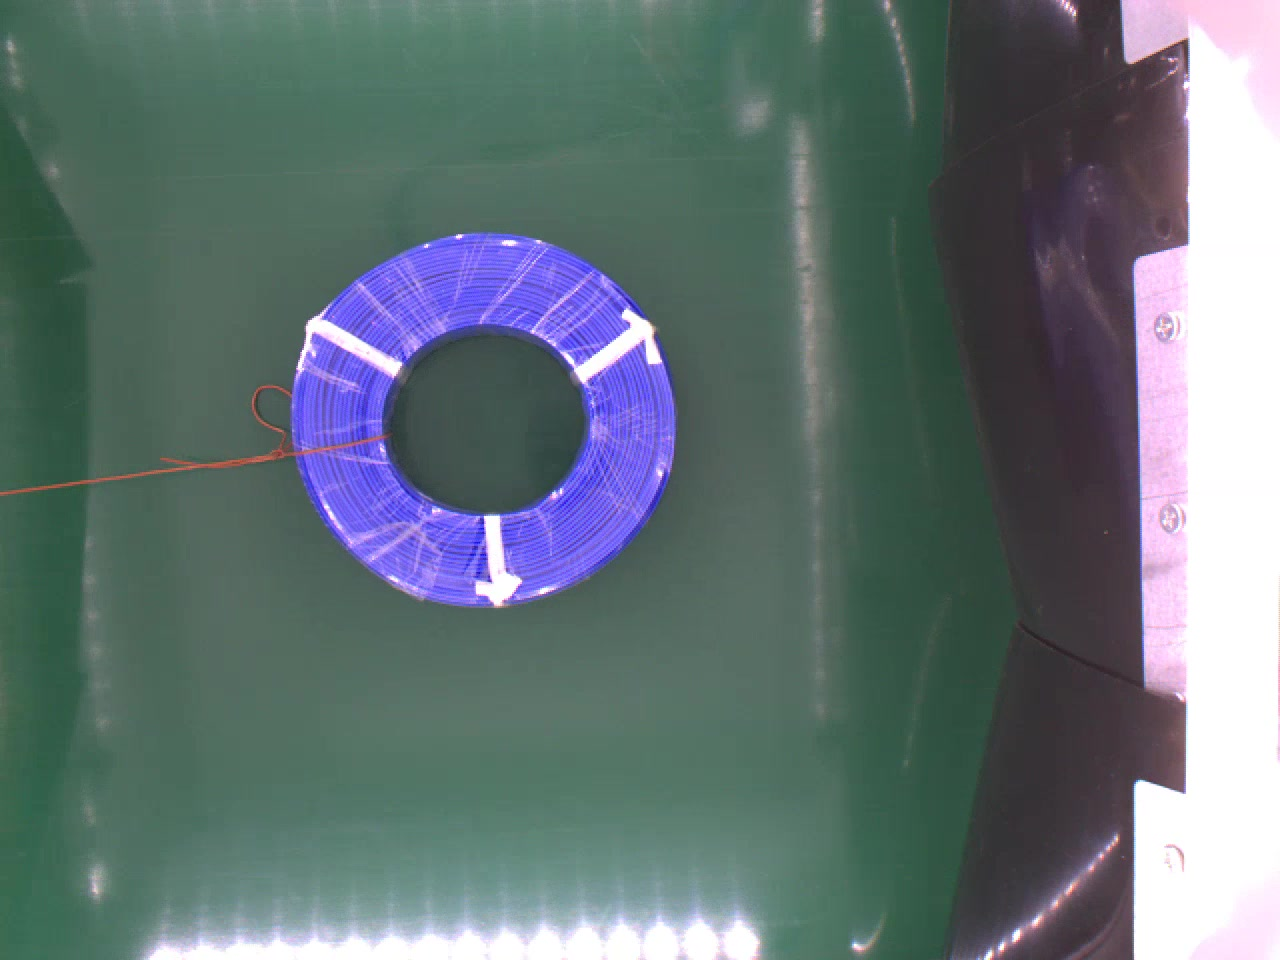blue: (283, 221, 679, 603)
